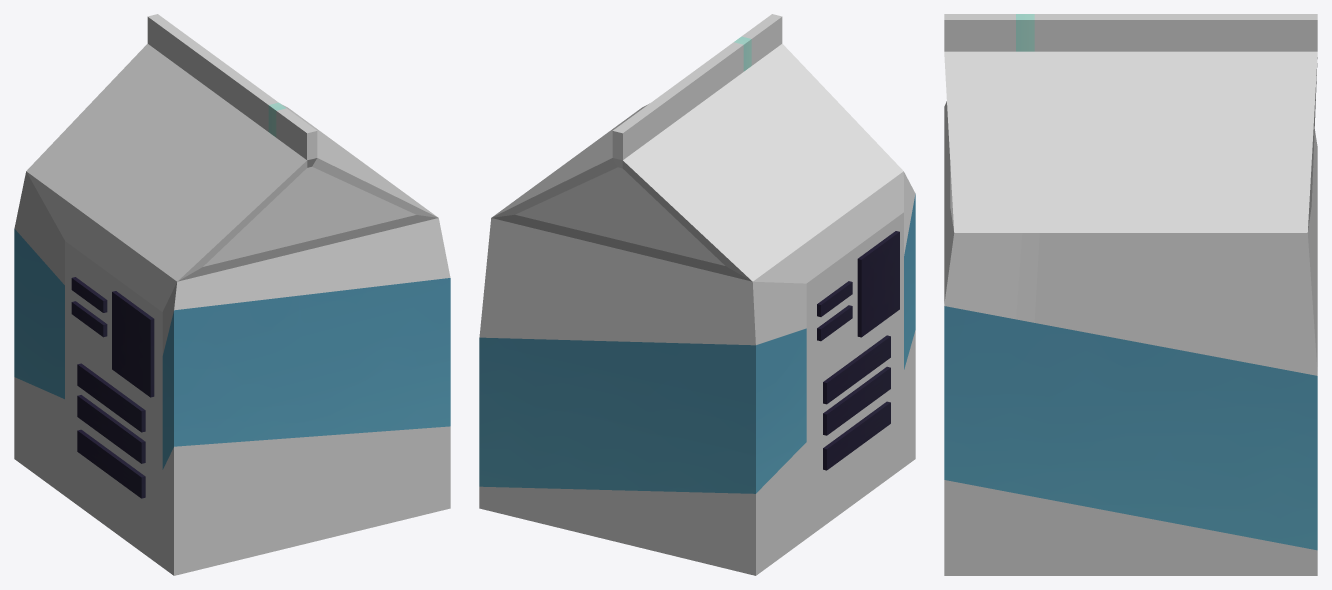
Rendered from Food_MilkSnack.fbx.
3 views of the same model, side by side, from view 1: azimuth 30°, elevation 25°; view 2: azimuth 150°, elevation 25°; view 3: azimuth 270°, elevation 25° (orthographic). The views are drawn at different scales.
Visible parts, largest first — view 1: MilkSnack!; view 2: MilkSnack!; view 3: MilkSnack!.
Part boxes in pixels (box(x1,y1,x2,y2)): MilkSnack!: box(14, 14, 450, 575); MilkSnack!: box(479, 14, 915, 575); MilkSnack!: box(944, 14, 1317, 575).
Size of the model in its own units: 14.96 by 20.91 by 14.74.
